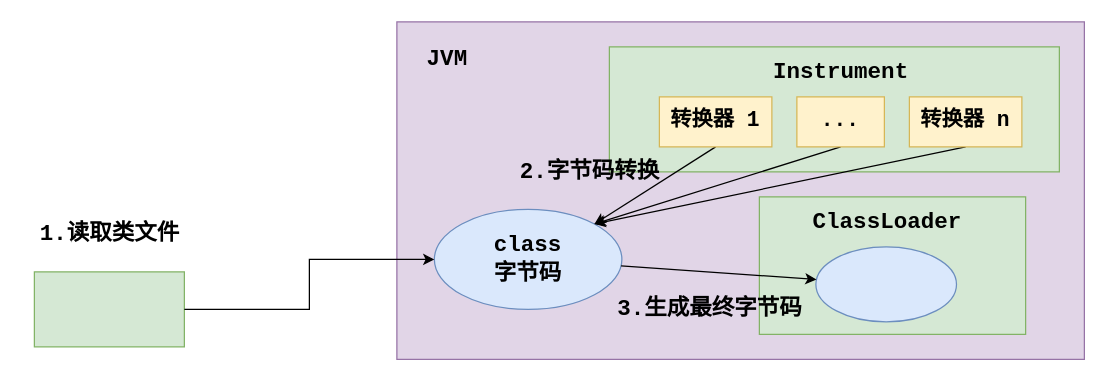
This 1106x381 diagram has some shape labels left out. The box of each missing label's shape, as (x1, y1, x2, y2) in pixels:
class 文件: (33, 271, 184, 347)
class' 字节码: (815, 246, 956, 322)
